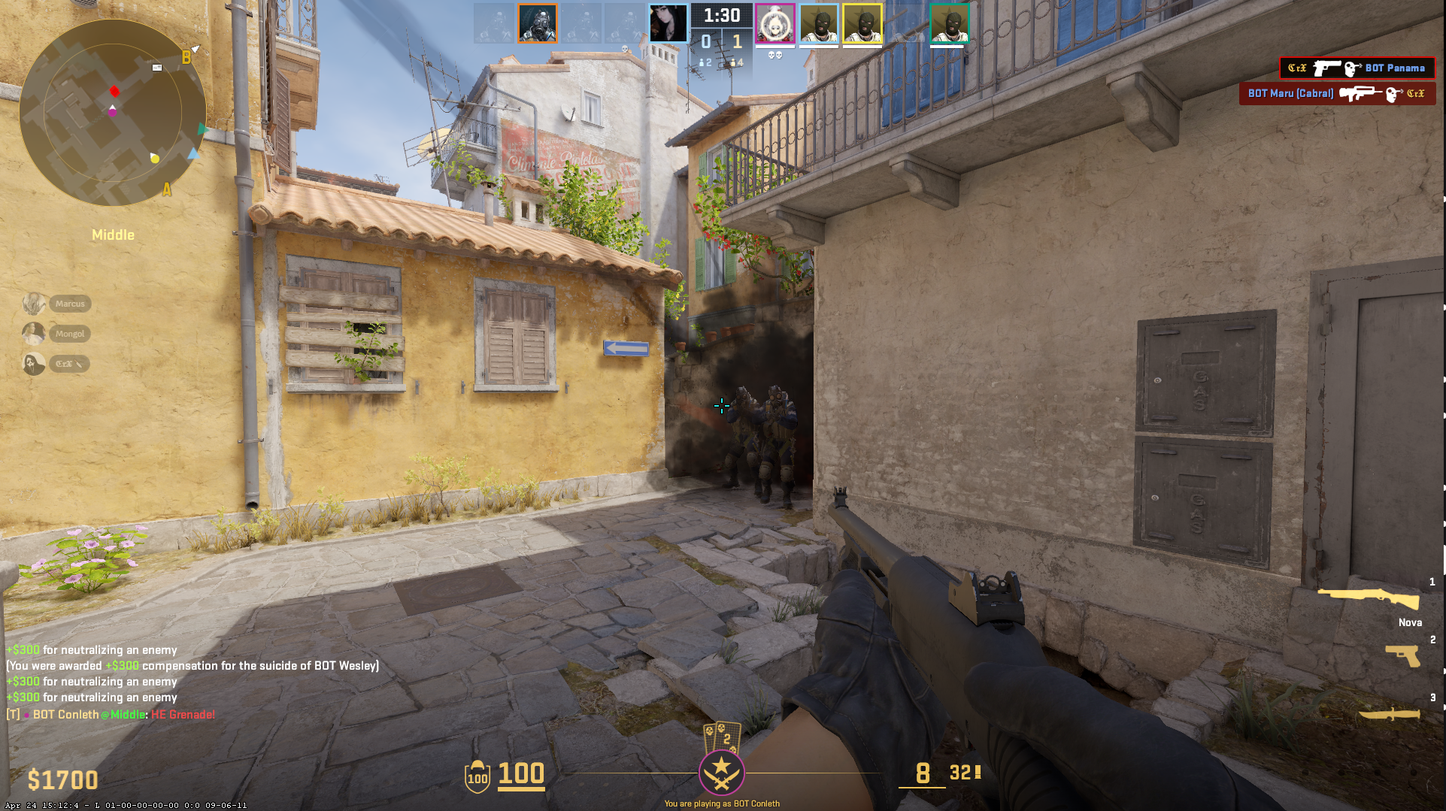CT: (755, 385, 800, 515), (725, 387, 757, 508)
